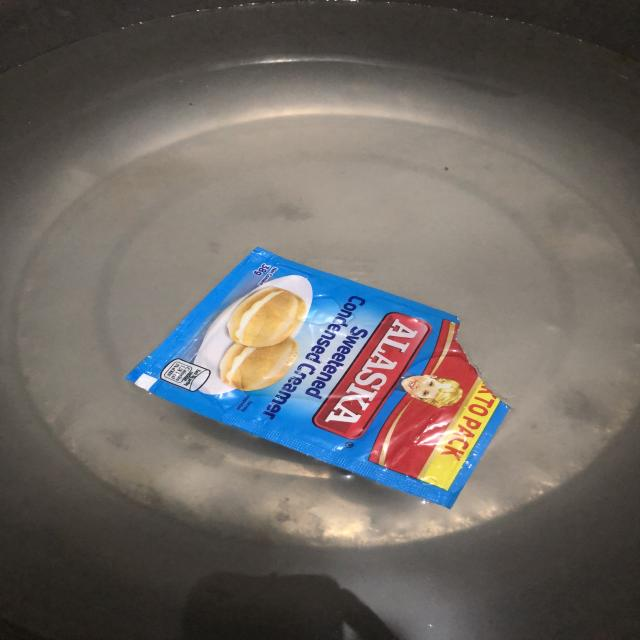Plastic Wrapper: (119, 242, 516, 512)
